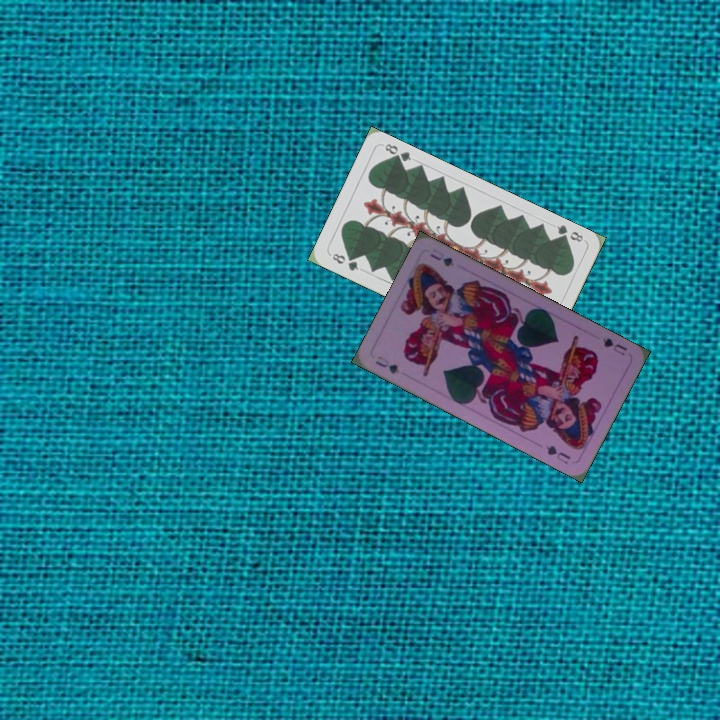G8: (328, 249, 361, 274), (553, 221, 586, 245)
GU: (371, 352, 402, 377), (598, 334, 630, 358)
